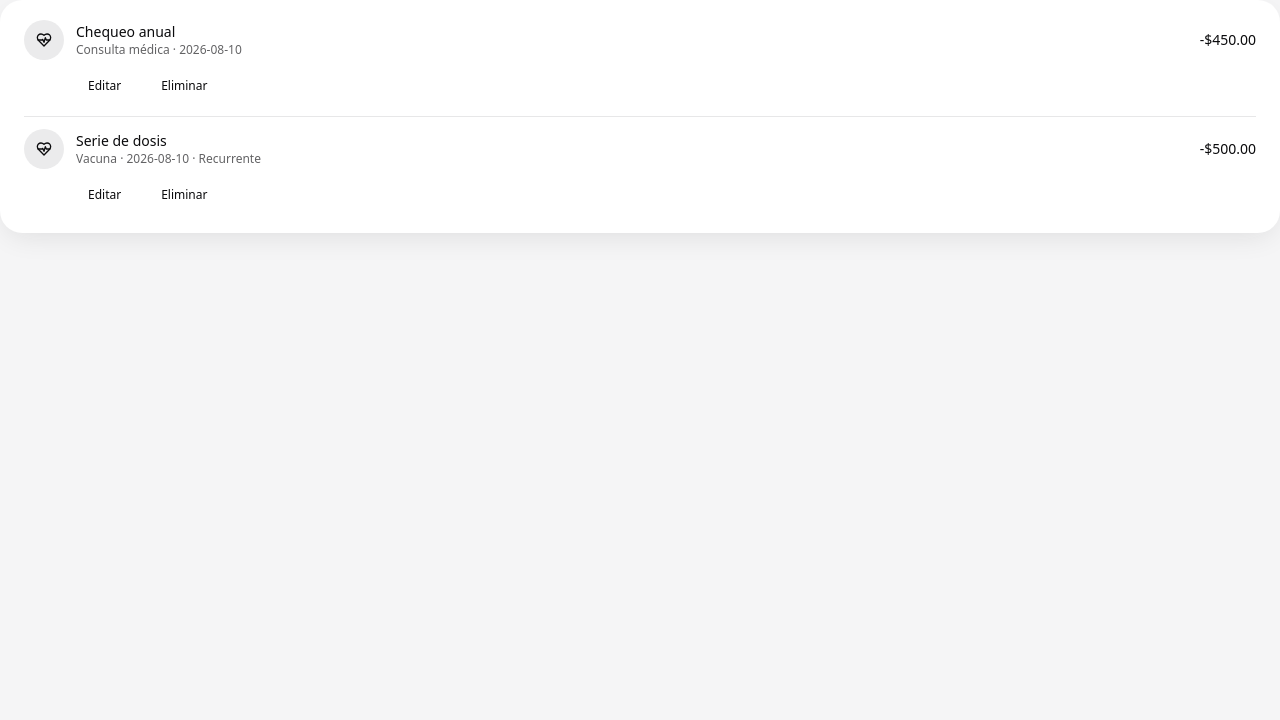
Test case: EventList — smoke render (health-tracking) › clicking Editar on a one-off costed event opens EditEventSheet with the amount field; a recurring event's sheet hides it
This screenshot has width=1280, height=720.
Click the button "Editar" below "Consulta médica" at (105, 86), box [72,68,137,104]
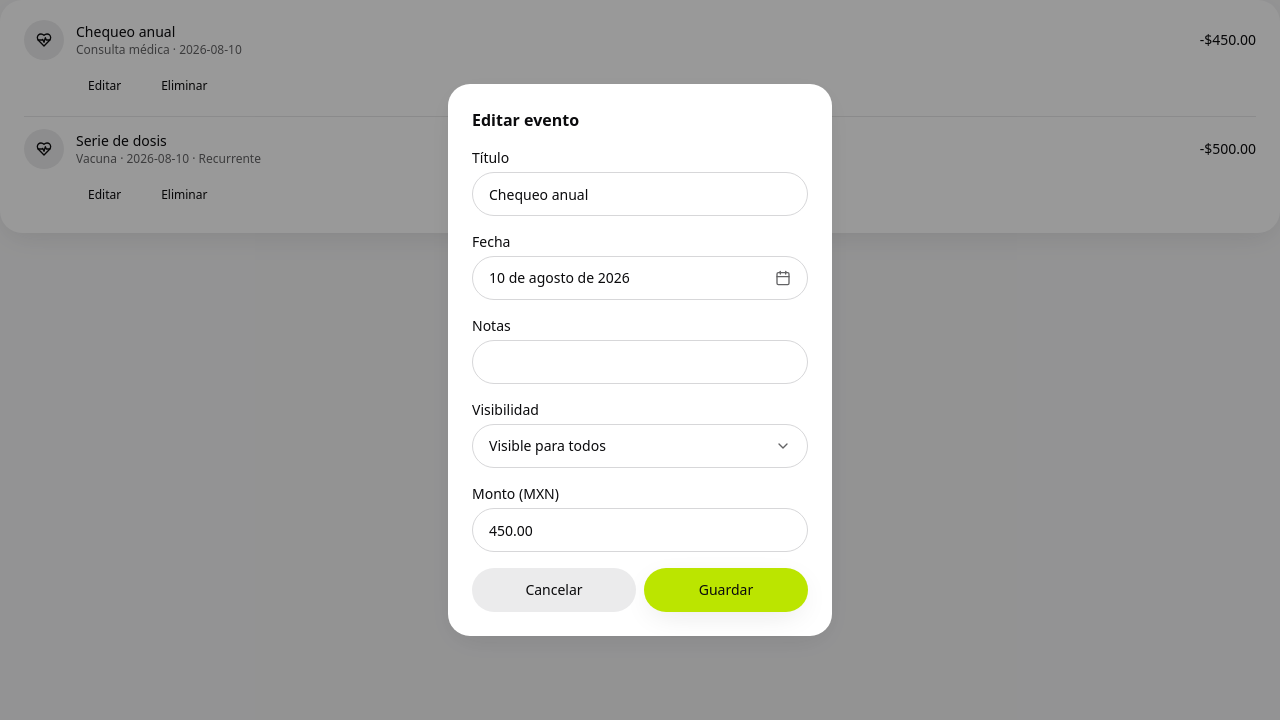
Expected: the heading "Editar evento" is shown, [472,109,579,131]
Expected: the number field labelled "Monto (MXN)" is shown, [472,508,808,552]
Click the button "Cancelar" at (554, 590), box [472,568,636,612]
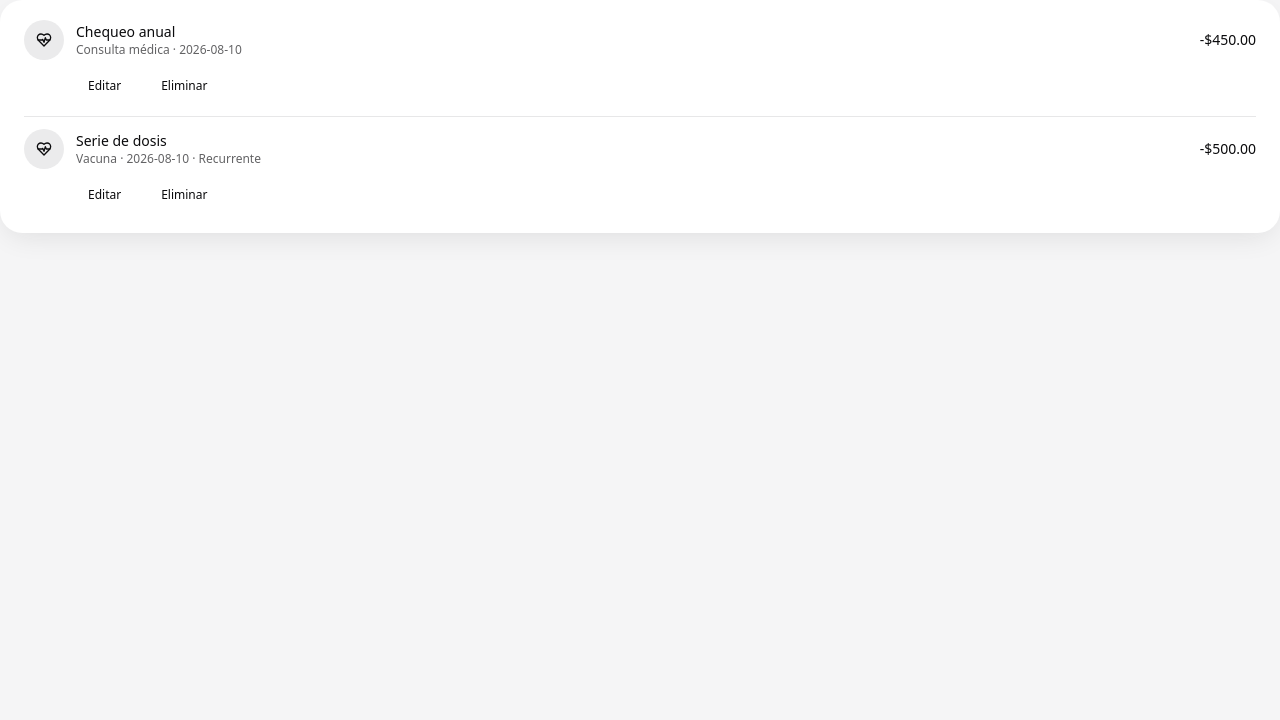
Expected: the heading "Editar evento" is gone
Click the button "Editar" below "Vacuna" at (105, 195), box [72,177,137,213]
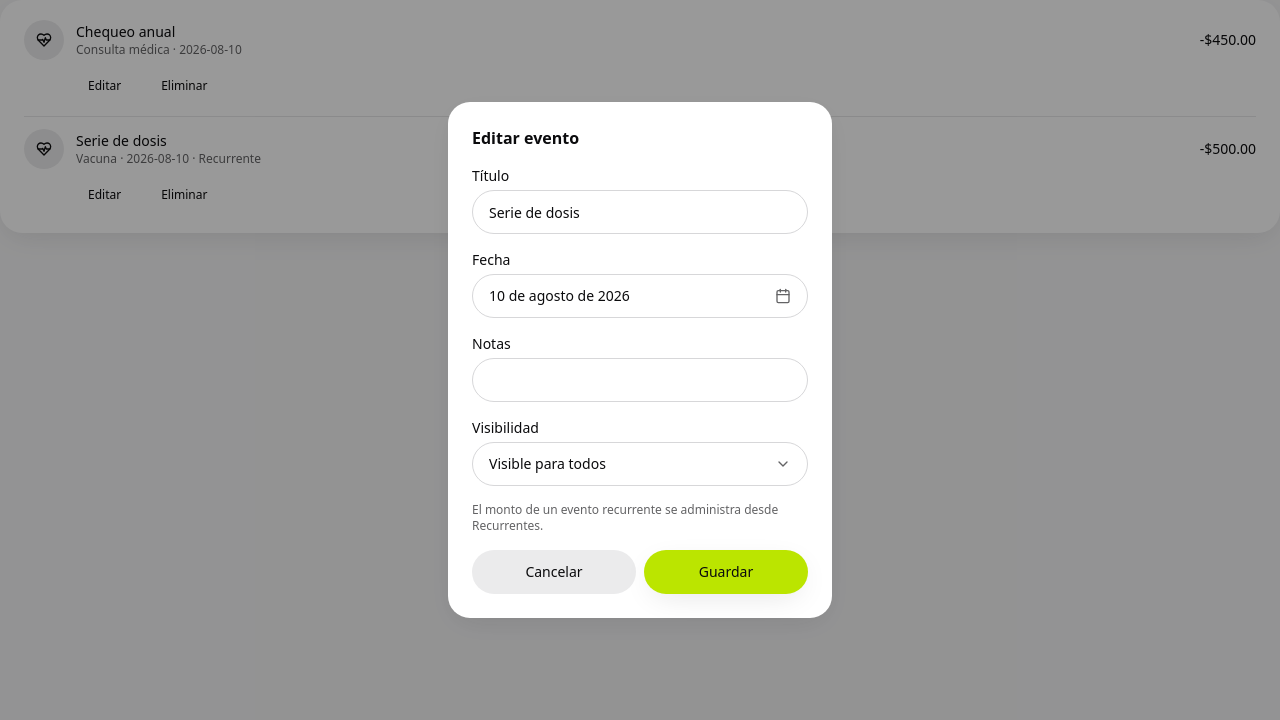
Expected: the label labelled "Monto (MXN)" is not shown
Expected: the text "se administra desde Recurrentes" is shown, [472,501,778,534]
